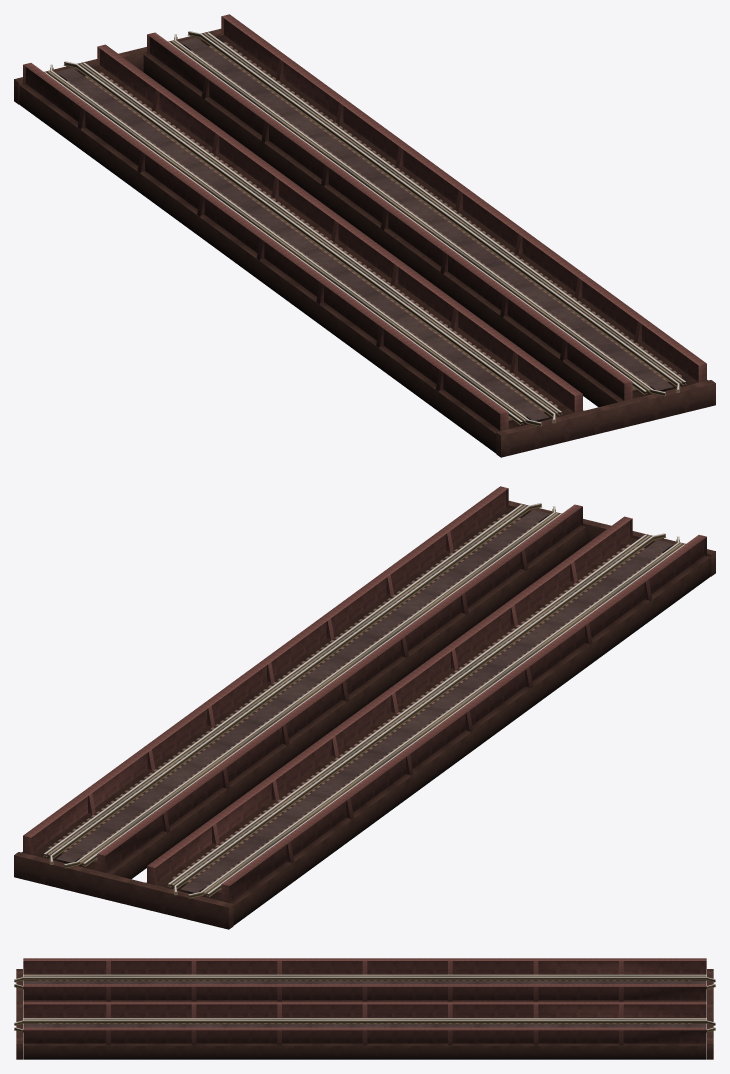
File: KI_BRIDGE_100.glb
3 views of the same model, one above another, from view 1: azimuth 30°, elevation 25°; view 2: azimuth 150°, elevation 25°; view 3: azimuth 270°, elevation 25° (orthographic). The views are drawn at different scales.
Parts seen in each view (by area): view 1: R000, obj14, R000_RG_R, R000_RG_L, bone0, obj10, obj12, obj8, obj13, obj11, obj9; view 2: R000, bone0, R000_RG_R, R000_RG_L, obj14, obj8, obj12, obj10, obj11, obj9, obj13; view 3: R000, R000_RG_R, obj14, bone0.
Boxes of the visible parts, box(x1,y1,x2,y2) form: R000: box(19, 14, 707, 453); obj14: box(473, 339, 715, 457); R000_RG_R: box(47, 41, 650, 422); R000_RG_L: box(79, 33, 681, 413); bone0: box(14, 28, 271, 115); obj10: box(234, 164, 452, 248); obj12: box(353, 252, 571, 335); obj8: box(115, 77, 333, 161); obj13: box(415, 297, 629, 377); obj11: box(296, 210, 509, 290); obj9: box(177, 122, 390, 202); R000: box(22, 486, 710, 925); bone0: box(14, 814, 252, 929); R000_RG_R: box(79, 513, 682, 895); R000_RG_L: box(47, 505, 650, 886); obj14: box(454, 500, 715, 591); obj8: box(96, 769, 314, 853); obj12: box(334, 594, 552, 678); obj10: box(215, 682, 433, 765); obj11: box(277, 640, 490, 720); obj9: box(158, 727, 371, 807); obj13: box(396, 552, 610, 633); R000: box(14, 958, 715, 1059); R000_RG_R: box(23, 975, 706, 1020); obj14: box(16, 969, 109, 1059); bone0: box(626, 969, 713, 1059).
Size of the model in its own units: 26 by 4.51 by 103.
Materials: 16 (15 with a texture image).
